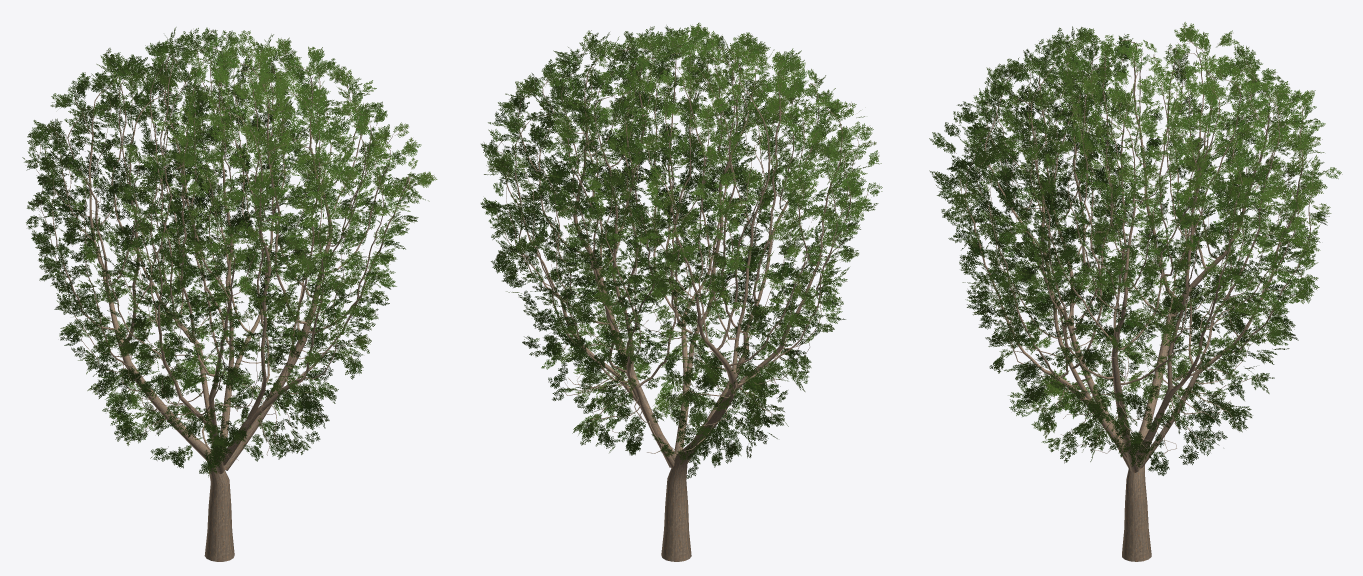
Rendered from keyaki.glb.
3 views of the same model, side by side, from view 1: azimuth 30°, elevation 25°; view 2: azimuth 150°, elevation 25°; view 3: azimuth 270°, elevation 25° (orthographic).
Visible parts, largest first — view 1: keyaki_leaves, keyaki_bark; view 2: keyaki_leaves, keyaki_bark; view 3: keyaki_leaves, keyaki_bark.
Boxes of the visible parts, x1,y1,x2,y2 form: keyaki_leaves: [22, 27, 437, 477]; keyaki_bark: [36, 41, 415, 561]; keyaki_leaves: [480, 22, 882, 478]; keyaki_bark: [495, 35, 867, 561]; keyaki_leaves: [929, 22, 1342, 475]; keyaki_bark: [960, 39, 1314, 561].
Size of the model in its own units: 13.81 by 18.55 by 13.75.
Materials: 2 (2 with a texture image).
